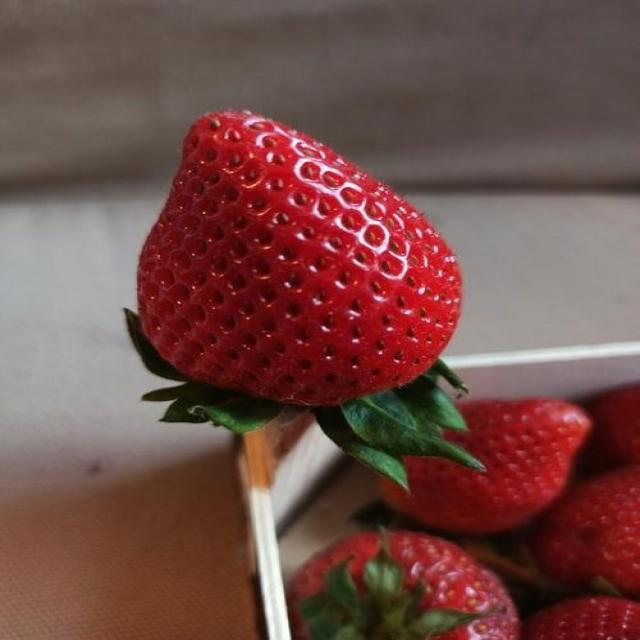mature: (135, 111, 463, 405)
